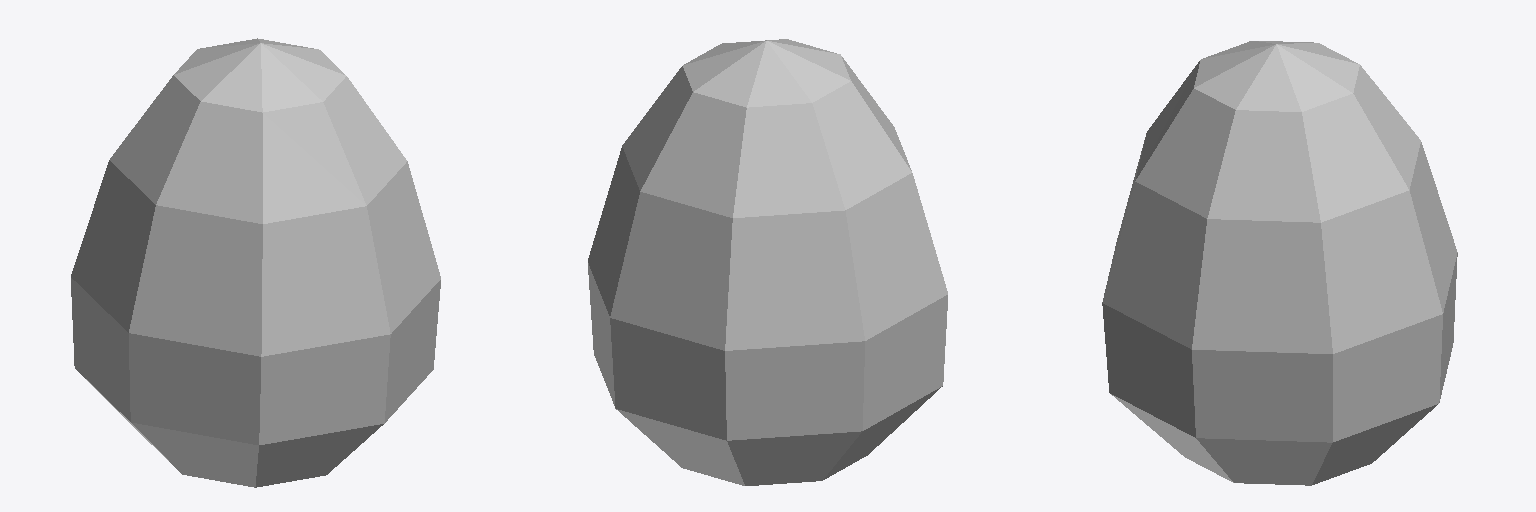
File: huevo4.obj
3 views of the same model, side by side, from view 1: azimuth 30°, elevation 25°; view 2: azimuth 150°, elevation 25°; view 3: azimuth 270°, elevation 25° (orthographic).
Parts seen in each view (by area): view 1: Object_0.004; view 2: Object_0.004; view 3: Object_0.004.
Part boxes in pixels (left/top/right/bottom): Object_0.004: left=71, top=38, right=440, bottom=487; Object_0.004: left=588, top=39, right=947, bottom=485; Object_0.004: left=1102, top=41, right=1457, bottom=485.
Size of the model in its own units: 0.3904 by 0.5173 by 0.3904.